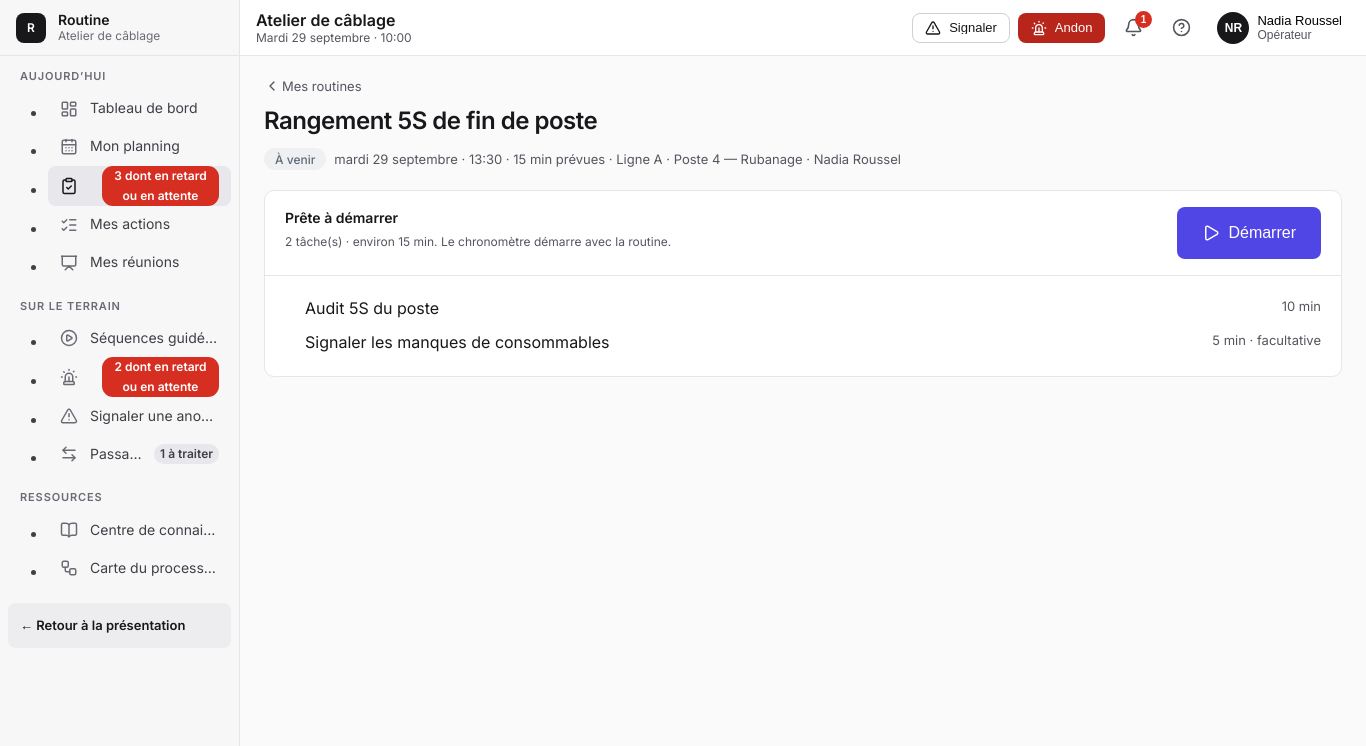
Test: routines › démarrer, exécuter les tâches obligatoires, terminer : la durée réelle est enregistrée
Later steps or results of the test are not shown.
Click the button "Démarrer" at (1249, 233), box [1177,207,1321,259]
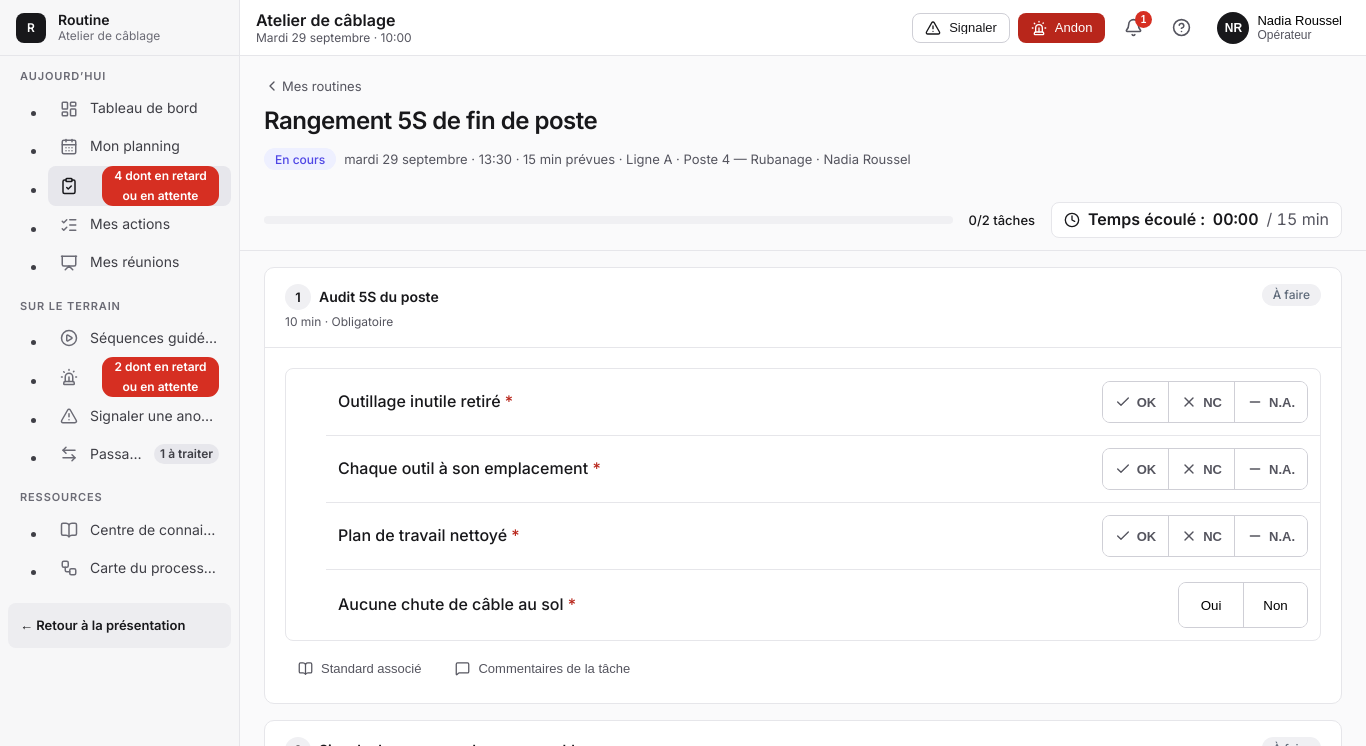
Click the button "OK" in the row of "Outillage inutile retiré" at (1136, 402), box [1103,382,1169,422]
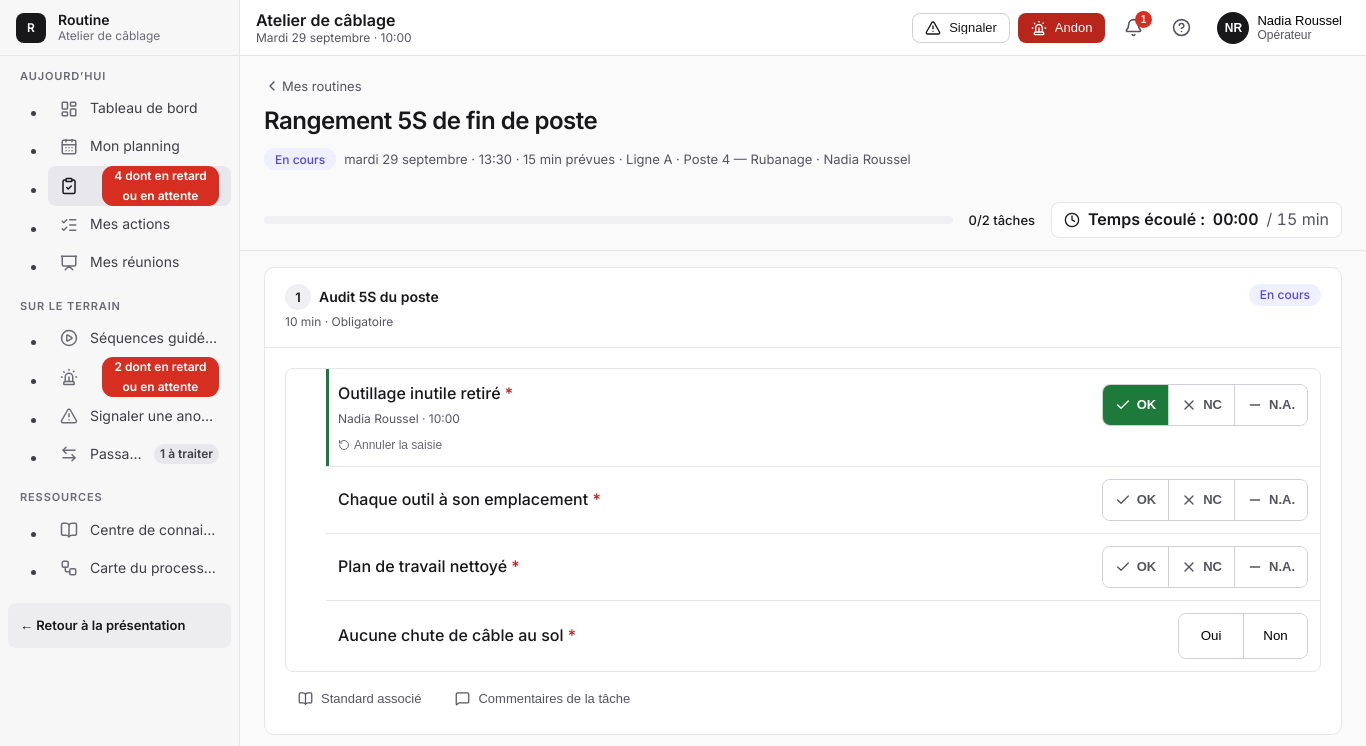
Click the button "OK" in the row of "Chaque outil à son emplacement" at (1136, 500), box [1103,480,1169,520]
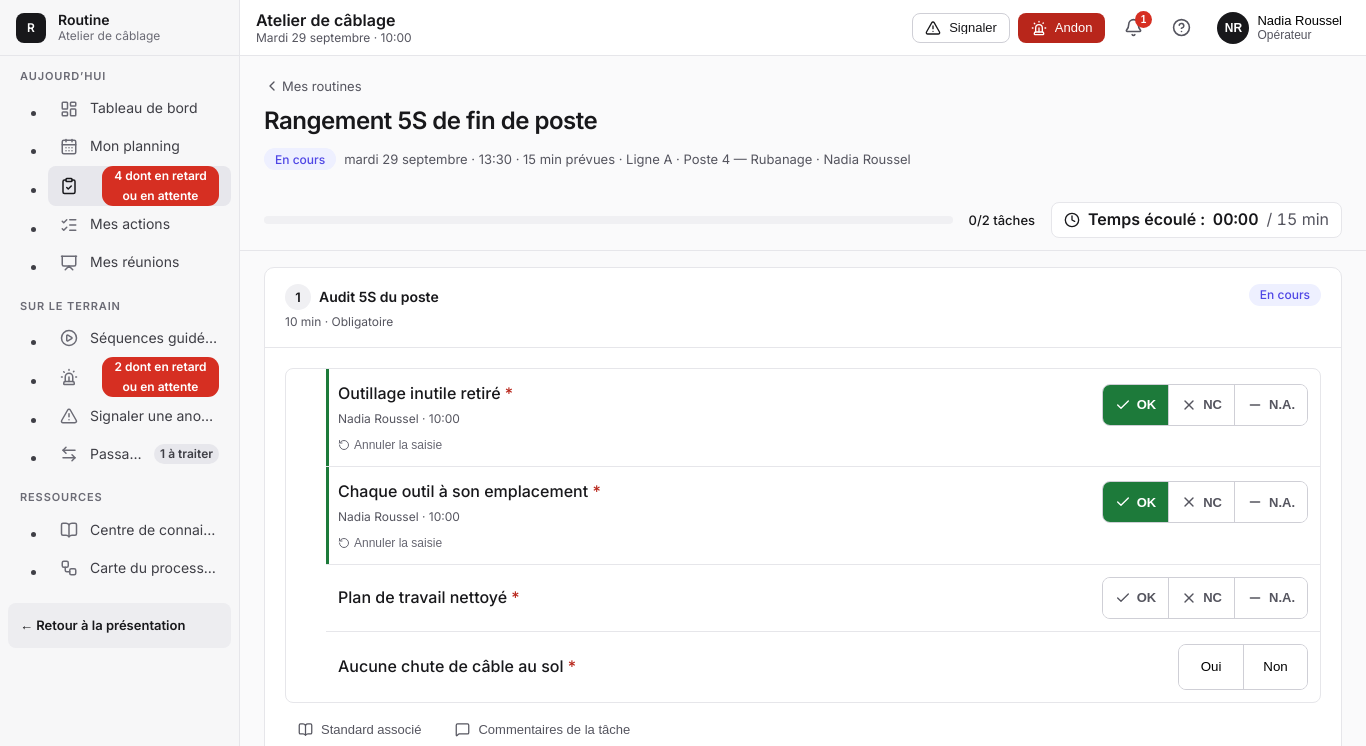
Click the button "OK" in the row of "Plan de travail nettoyé" at (1136, 598), box [1103,578,1169,618]
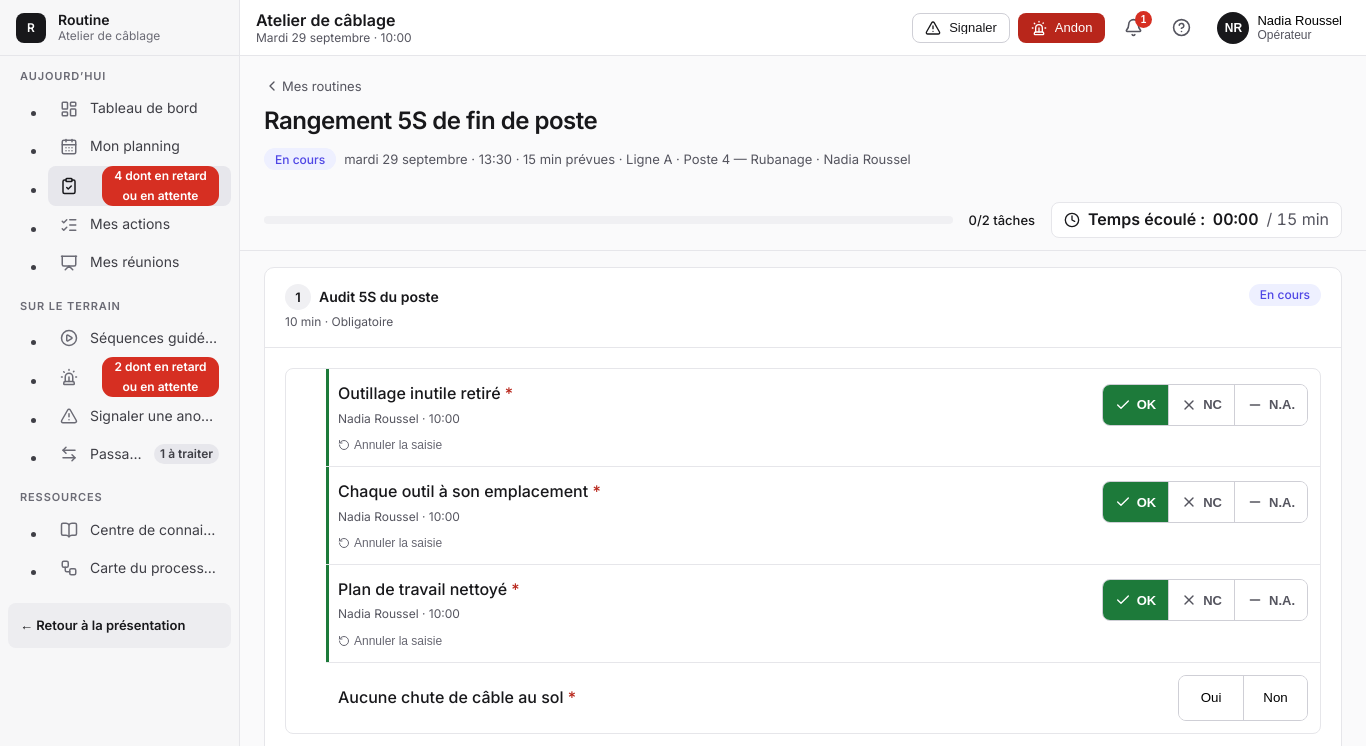
Click the button "Oui" at (1211, 698), box [1179,676,1243,720]
(page scrolled)
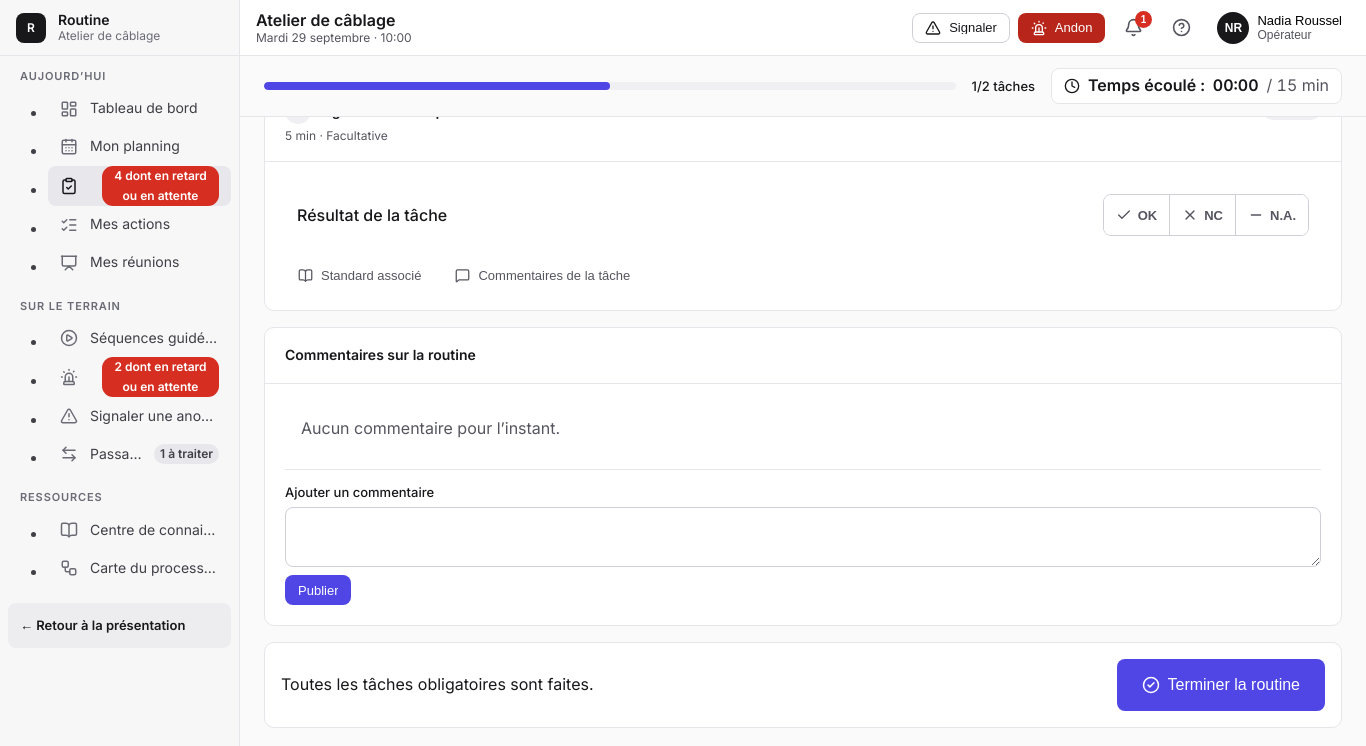
Check: the button "Terminer la routine" is enabled
Click the button "Terminer la routine" at (1221, 685), box [1116,659,1325,711]
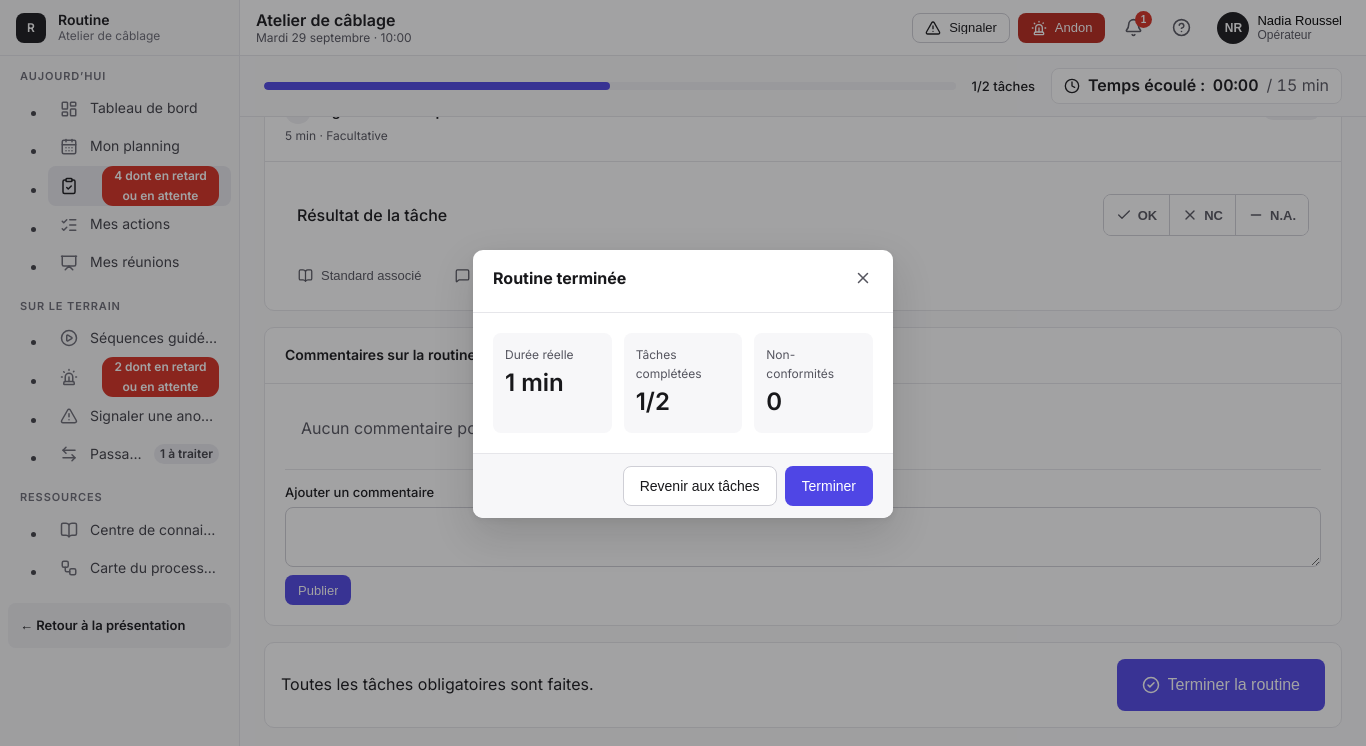
Check: the text "Tâches complétées" is shown, box [636,347,702,381]
